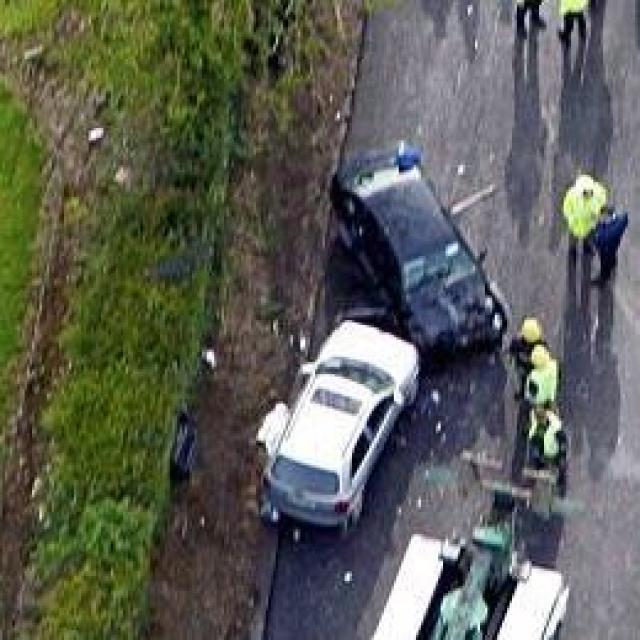traffic_incident: (318, 140, 510, 362), (244, 308, 418, 544)
